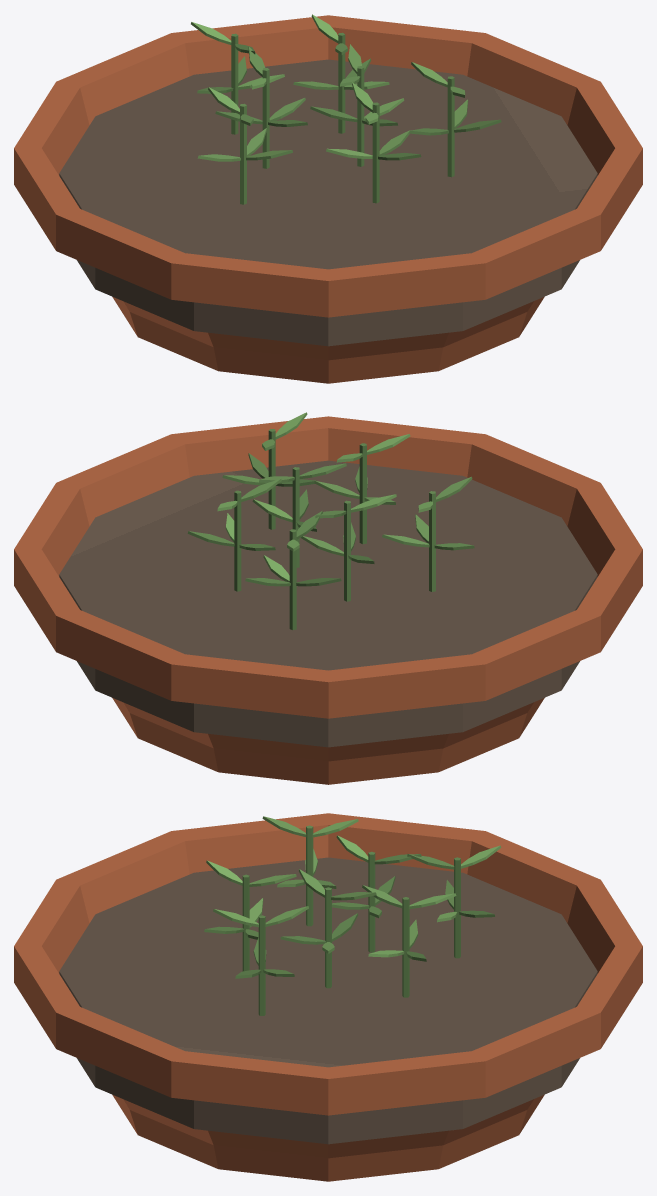
Rendered from moss-commune.glb.
3 views of the same model, one above another, from view 1: azimuth 30°, elevation 25°; view 2: azimuth 150°, elevation 25°; view 3: azimuth 270°, elevation 25° (orthographic).
Parts seen in each view (by area): view 1: moss-commune/review-rooted-soil, moss-commune/review-terra-vessel, moss-commune/moss-stem-031, moss-commune/moss-stem-013, moss-commune/moss-stem-007, moss-commune/moss-stem-025, moss-commune/moss-stem-037, moss-commune/moss-stem-019, moss-commune/moss-stem-001; view 2: moss-commune/review-rooted-soil, moss-commune/review-terra-vessel, moss-commune/moss-stem-019, moss-commune/moss-stem-013, moss-commune/moss-stem-037, moss-commune/moss-stem-007, moss-commune/moss-stem-025, moss-commune/moss-stem-031, moss-commune/moss-stem-001; view 3: moss-commune/review-rooted-soil, moss-commune/review-terra-vessel, moss-commune/moss-stem-019, moss-commune/moss-stem-031, moss-commune/moss-stem-025, moss-commune/moss-stem-037, moss-commune/moss-stem-013, moss-commune/moss-stem-007, moss-commune/moss-stem-001.
Boxes of the visible parts, <box> form: moss-commune/review-rooted-soil: <box>59,59,597,346</box>; moss-commune/review-terra-vessel: <box>14,15,642,383</box>; moss-commune/moss-stem-031: <box>447,76,454,177</box>; moss-commune/moss-stem-013: <box>372,102,379,203</box>; moss-commune/moss-stem-007: <box>262,68,269,168</box>; moss-commune/moss-stem-025: <box>240,103,246,204</box>; moss-commune/moss-stem-037: <box>231,33,238,134</box>; moss-commune/moss-stem-019: <box>338,32,345,133</box>; moss-commune/moss-stem-001: <box>357,66,364,166</box>; moss-commune/review-rooted-soil: <box>59,460,597,747</box>; moss-commune/review-terra-vessel: <box>14,416,642,784</box>; moss-commune/moss-stem-019: <box>234,490,241,591</box>; moss-commune/moss-stem-013: <box>359,443,366,544</box>; moss-commune/moss-stem-037: <box>289,529,296,630</box>; moss-commune/moss-stem-007: <box>344,500,350,601</box>; moss-commune/moss-stem-025: <box>429,491,435,591</box>; moss-commune/moss-stem-031: <box>268,429,275,529</box>; moss-commune/moss-stem-001: <box>292,467,299,567</box>; moss-commune/review-rooted-soil: <box>59,857,597,1144</box>; moss-commune/review-terra-vessel: <box>14,813,642,1181</box>; moss-commune/moss-stem-019: <box>402,897,409,997</box>; moss-commune/moss-stem-031: <box>258,915,265,1015</box>; moss-commune/moss-stem-025: <box>306,825,313,926</box>; moss-commune/moss-stem-037: <box>454,857,460,958</box>; moss-commune/moss-stem-013: <box>242,874,249,971</box>; moss-commune/moss-stem-007: <box>368,851,375,952</box>; moss-commune/moss-stem-001: <box>325,887,331,988</box>.
Size of the model in its own units: 0.25 by 0.0958 by 0.25.
3 materials, 3 textured.
